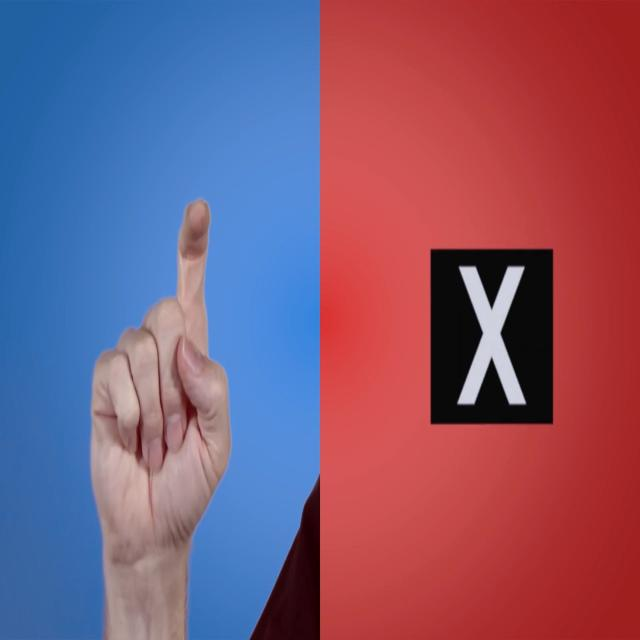X: (75, 154, 239, 639)
